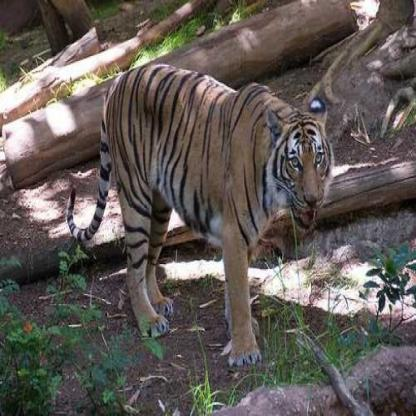Tiger: (64, 52, 336, 371)
